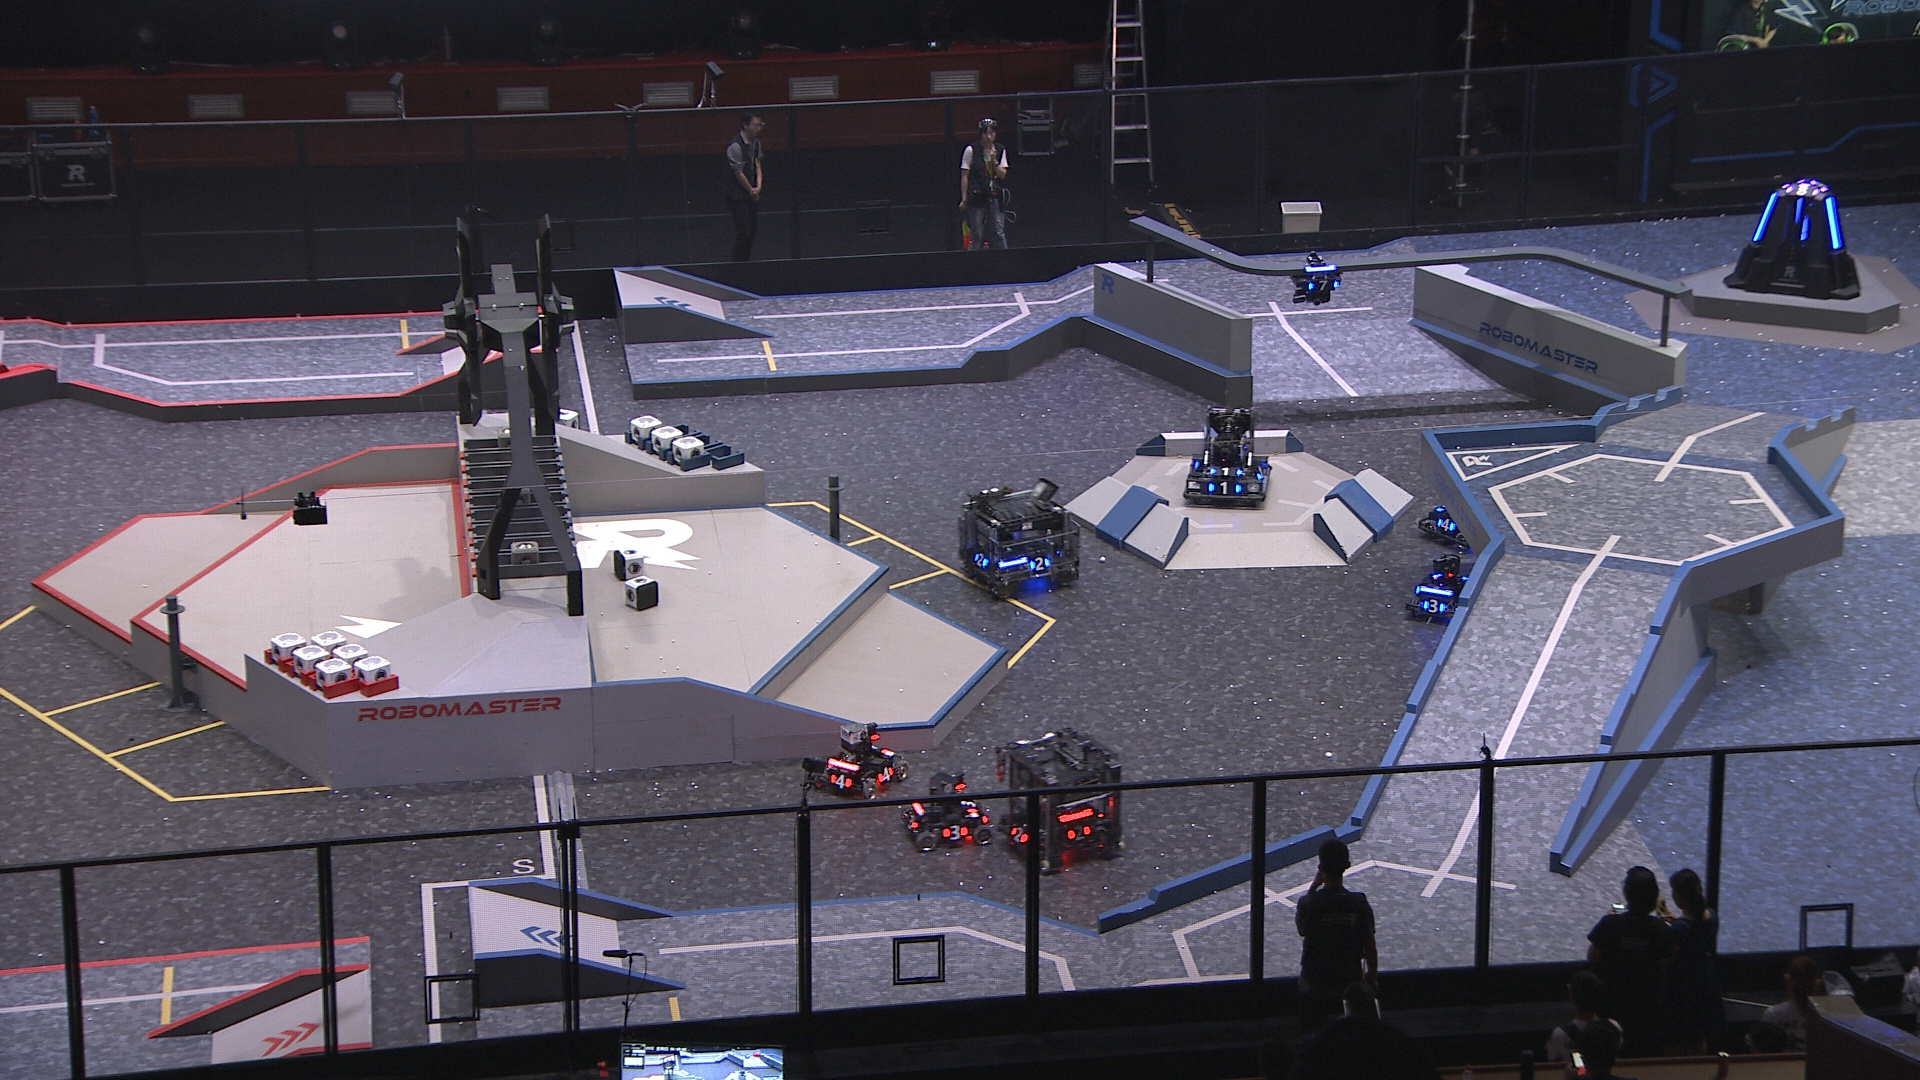armor: (1753, 194, 1776, 243), (1825, 196, 1844, 249), (1207, 481, 1244, 498), (940, 823, 971, 843), (1064, 823, 1091, 844), (1207, 465, 1247, 477), (1305, 278, 1340, 291), (827, 773, 855, 789), (1433, 517, 1458, 534), (1422, 599, 1447, 616), (1010, 825, 1030, 845), (1027, 556, 1051, 572), (959, 798, 978, 815), (972, 551, 992, 568), (1797, 215, 1811, 240), (878, 766, 897, 783), (905, 814, 918, 832), (1257, 465, 1266, 480)
base: (1722, 175, 1863, 301)
car: (993, 727, 1129, 877), (955, 476, 1083, 597), (1179, 405, 1273, 510), (899, 769, 998, 855), (811, 719, 913, 799), (1403, 553, 1480, 626), (1420, 481, 1499, 553)
ignore: (1783, 182, 1821, 196)
watcher: (1290, 252, 1342, 306)
